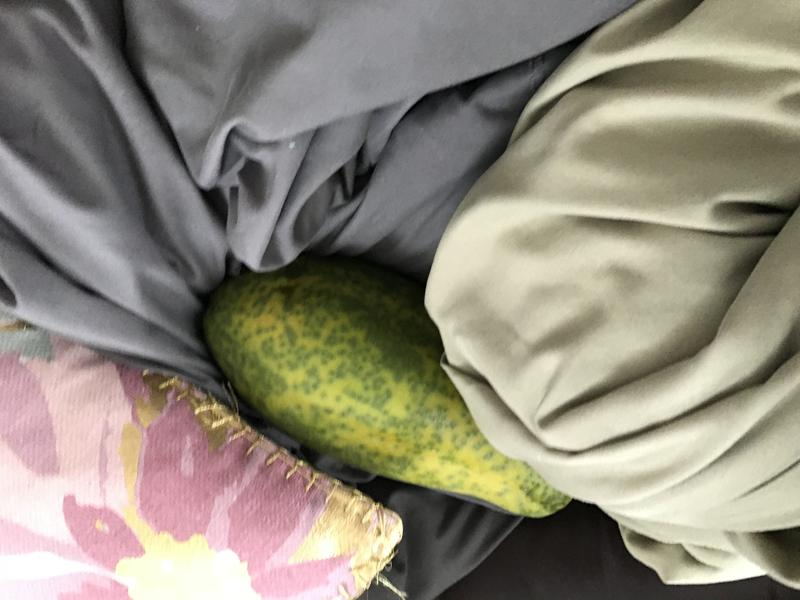papaya: (198, 253, 584, 527)
